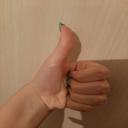ThumbsUp: (29, 22, 114, 114)
